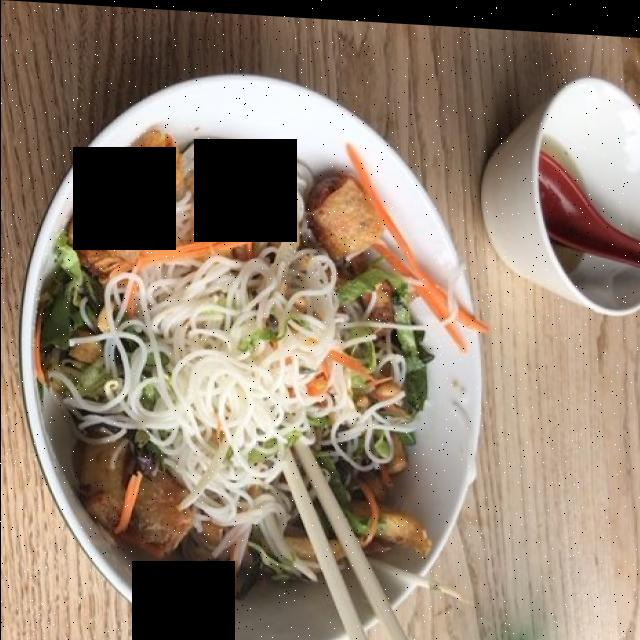mixed-vegetables: (38, 256, 429, 591)
spring-roll-fried: (59, 133, 376, 560)
